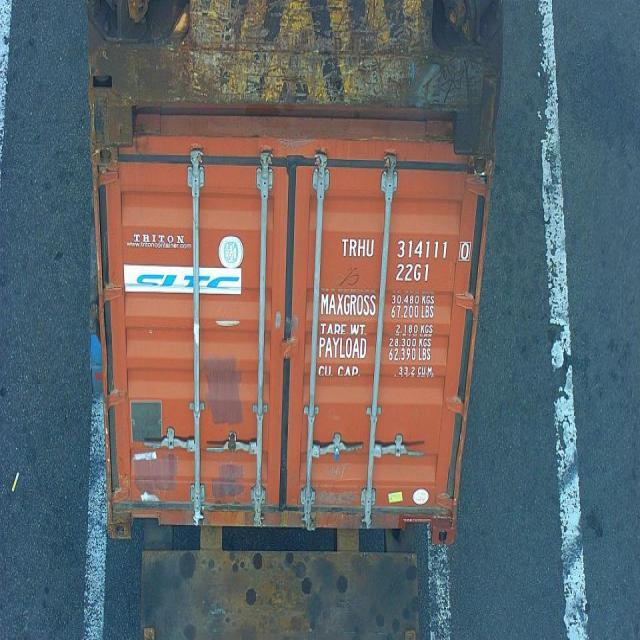ISO: (395, 262, 432, 283)
container_number: (340, 236, 470, 261)
